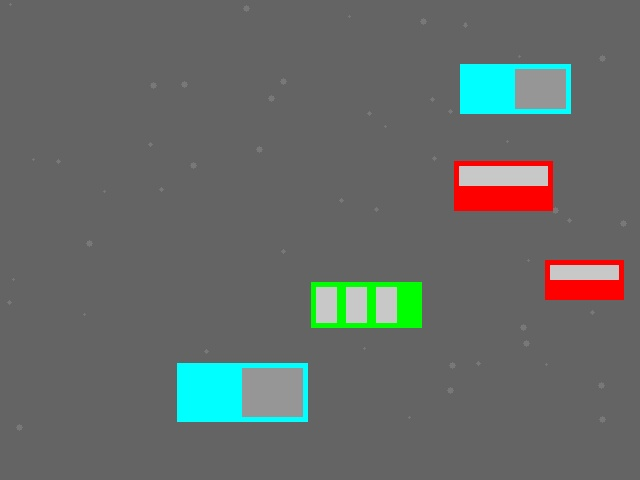bus: (311, 282, 421, 327)
car: (454, 161, 552, 210), (545, 260, 623, 299)
truck: (177, 363, 307, 421), (460, 64, 570, 113)
